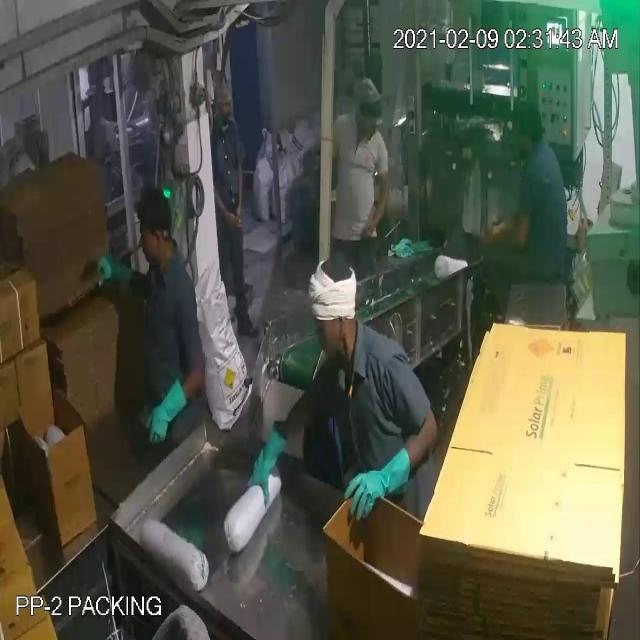Gloves: (26, 66, 505, 492)
